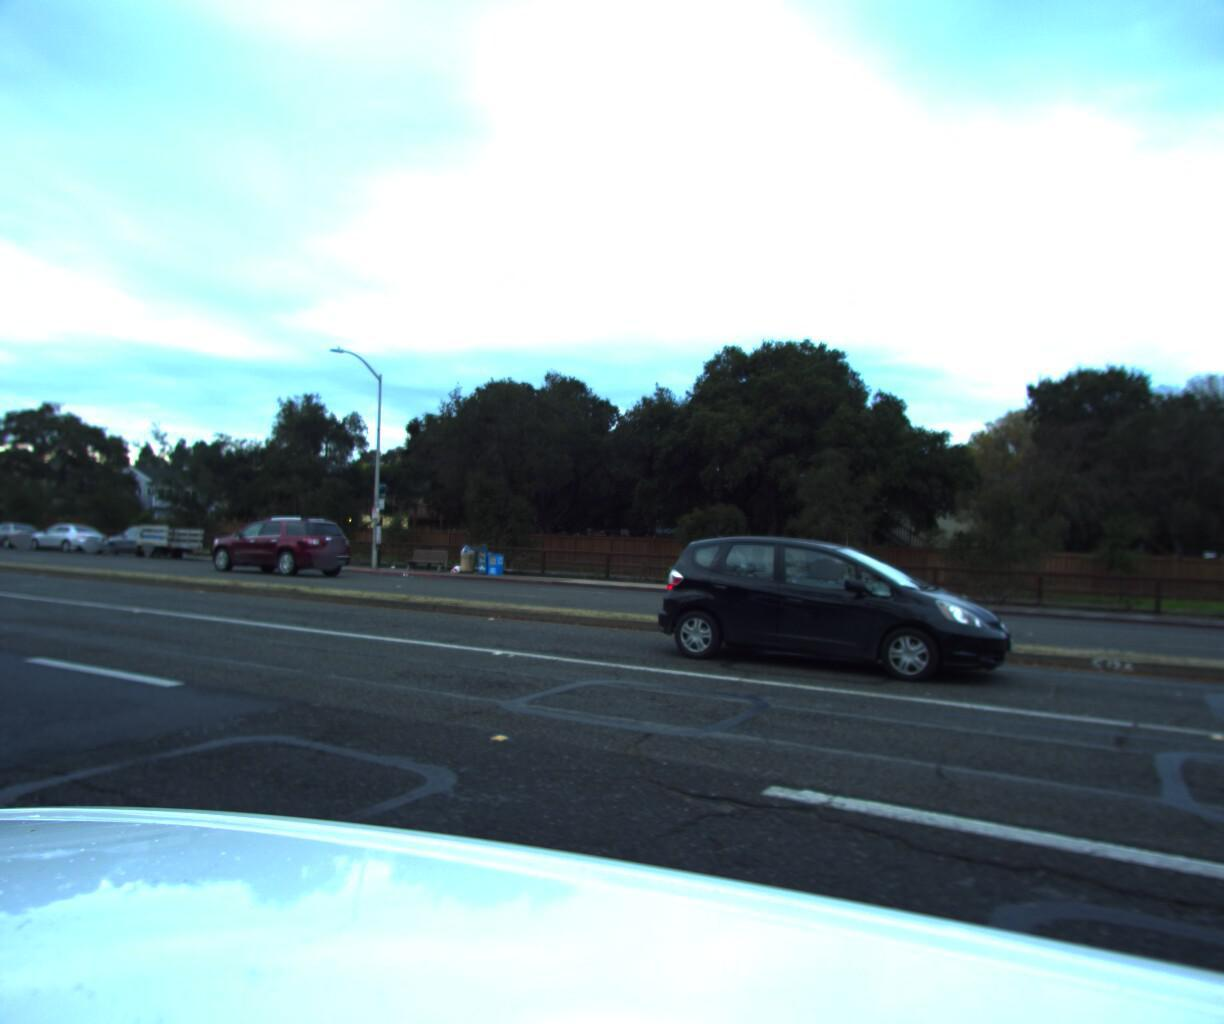car: (646, 527, 996, 686), (199, 506, 357, 573), (97, 515, 208, 554), (18, 516, 114, 551), (0, 517, 51, 545)
